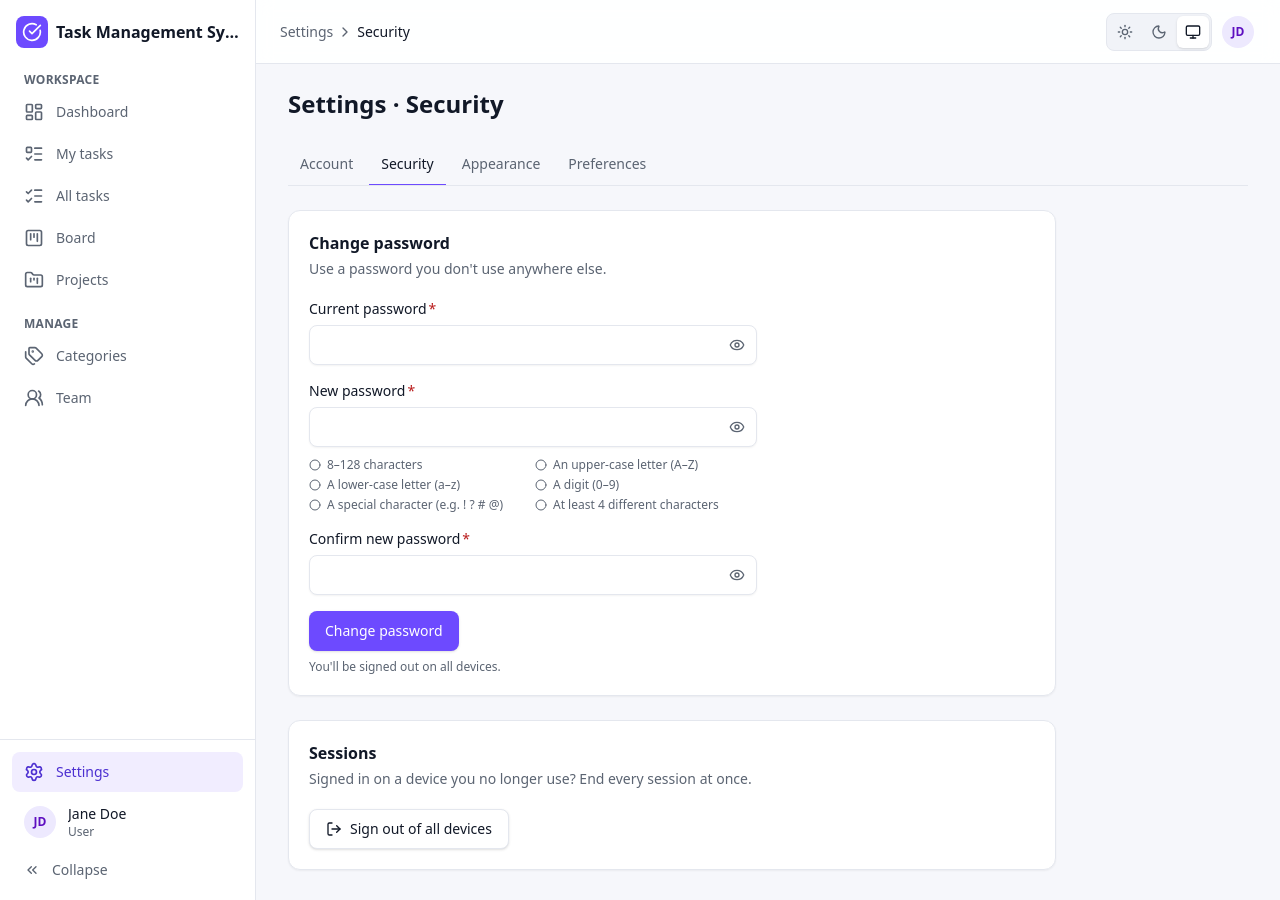
Test: While signed in › signs out of all devices from Settings › Security
Click the button "Sign out of all devices": (409, 829) [309,809,509,849]
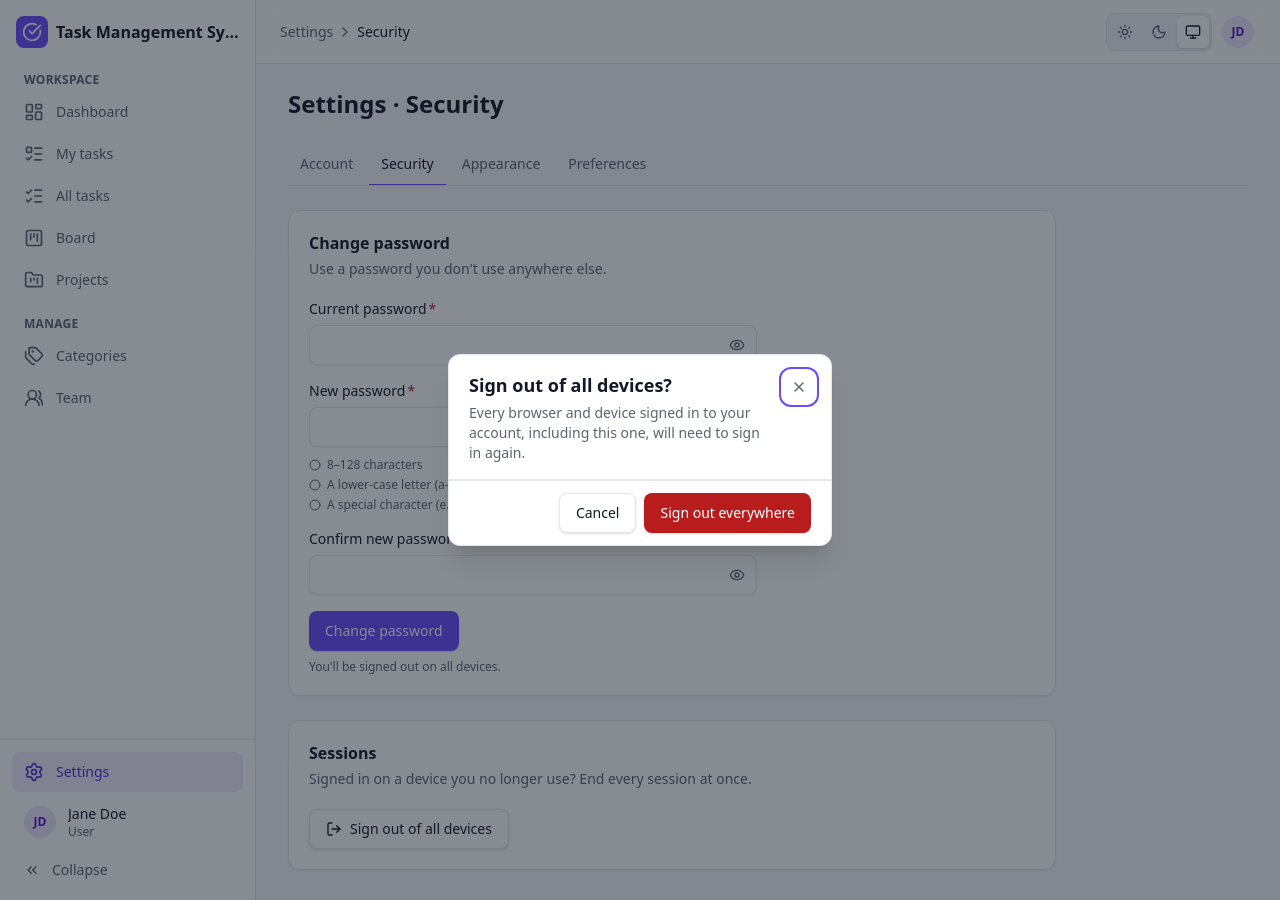
Click the button "Sign out everywhere": (728, 513) [644,493,811,533]
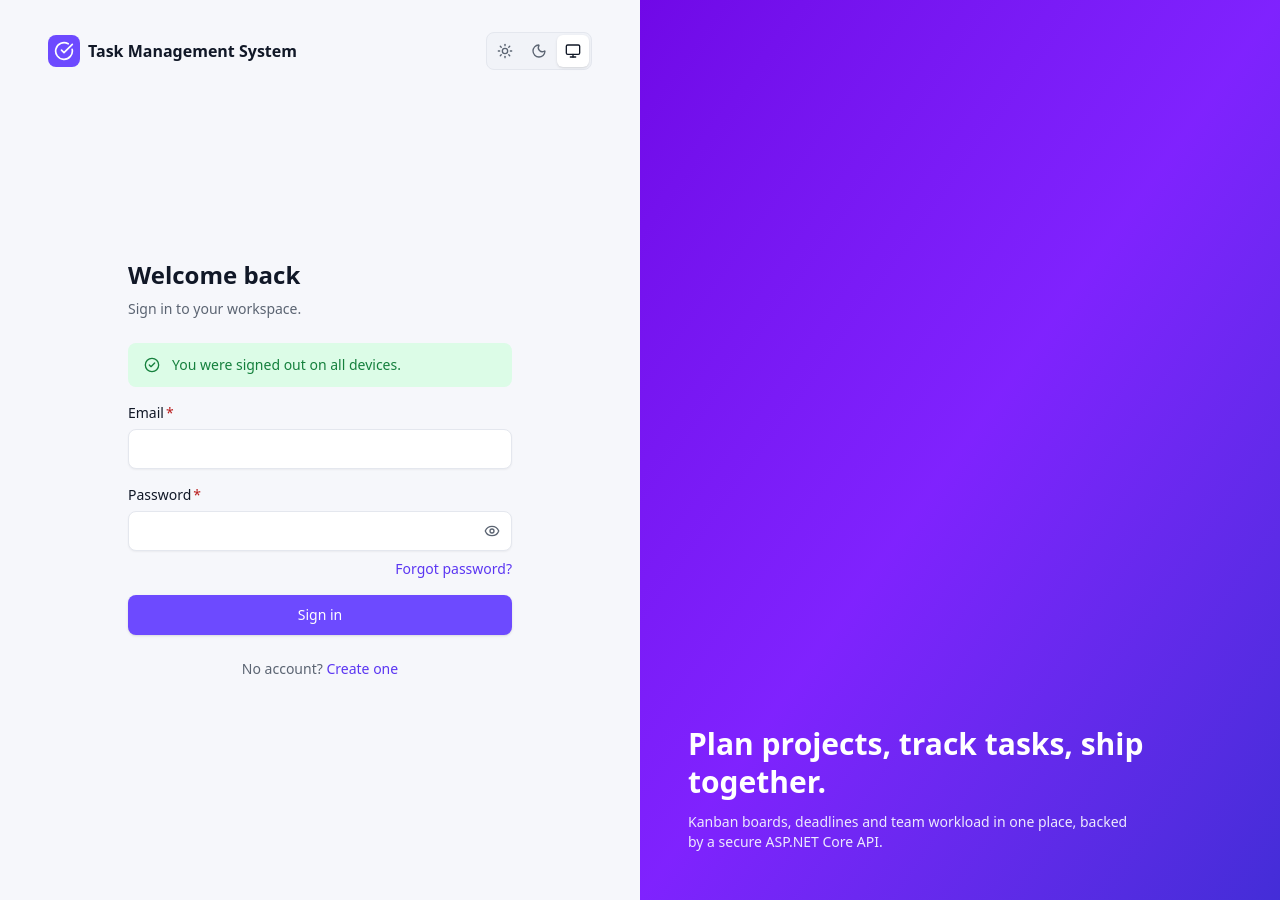
Result: the text "You were signed out on all devices." is shown at [172,355,401,374]
